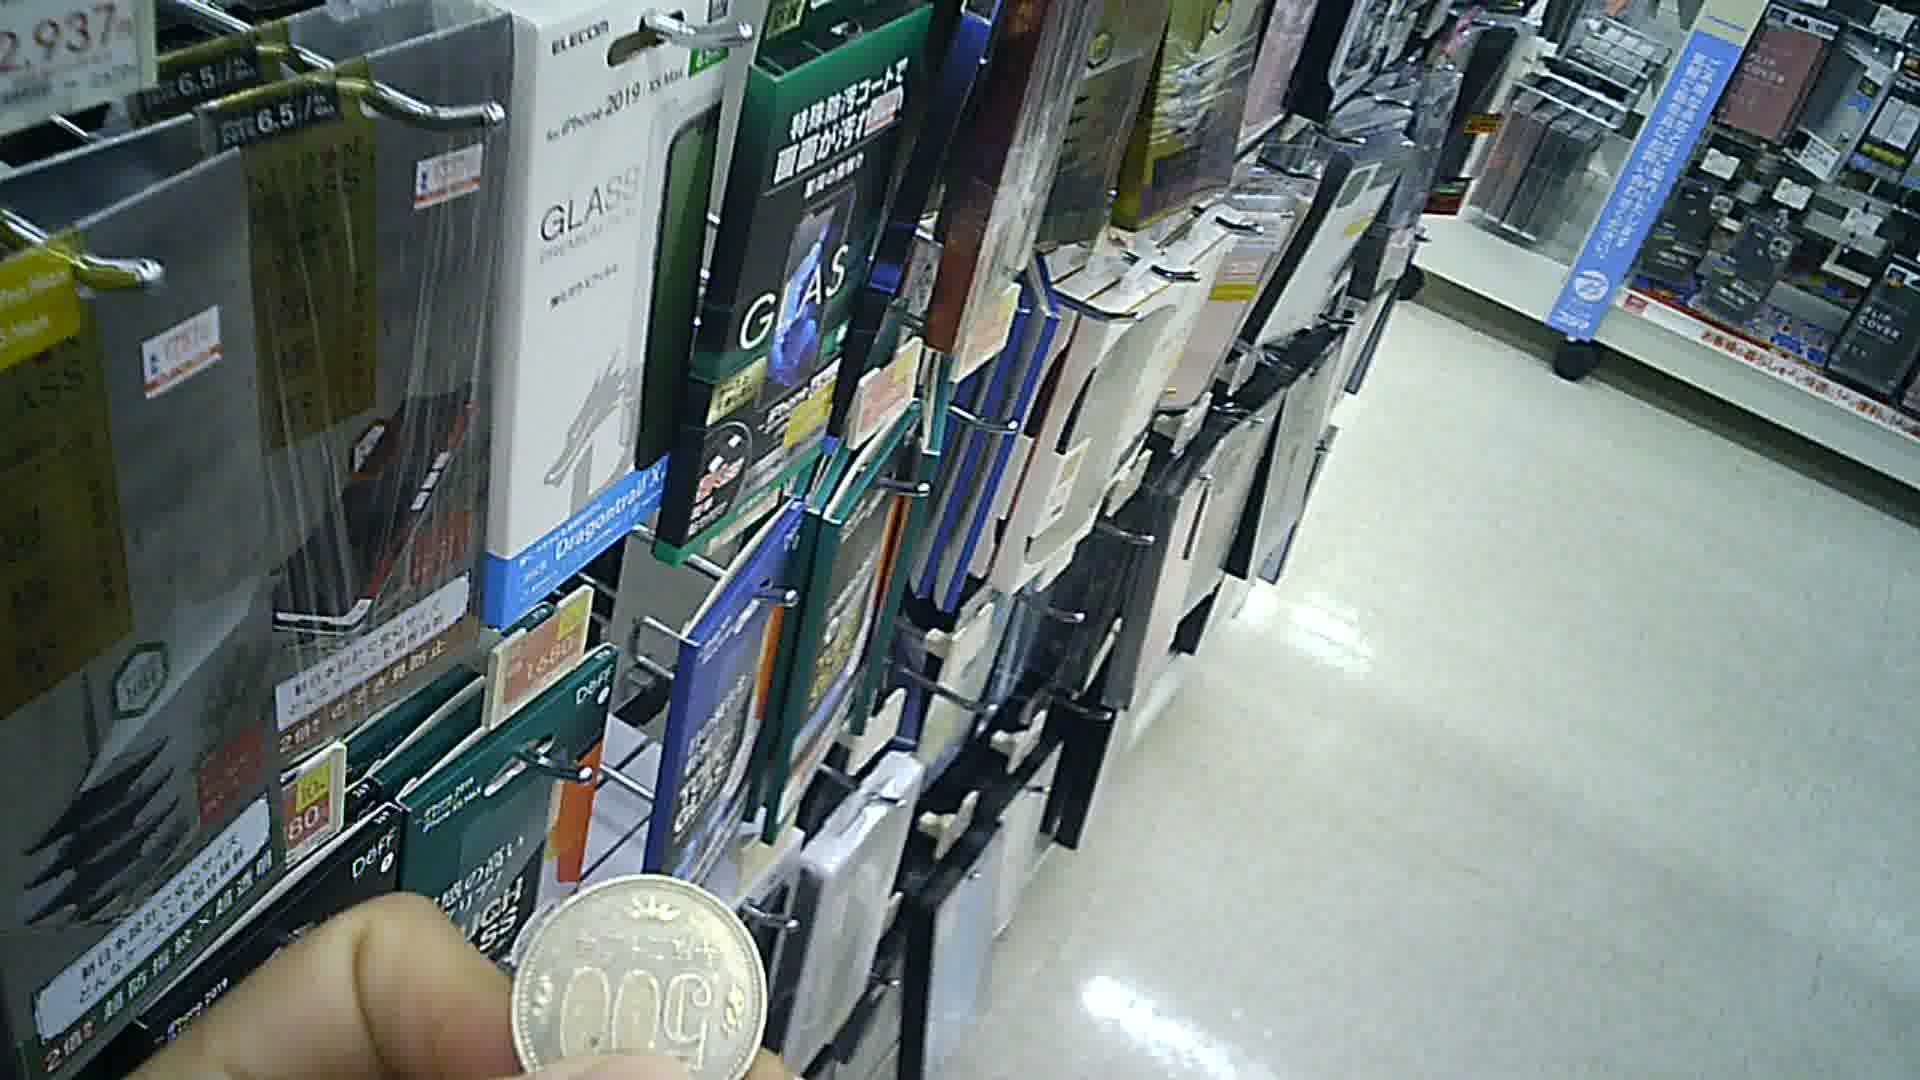500 Yen: (509, 877, 779, 1079)
